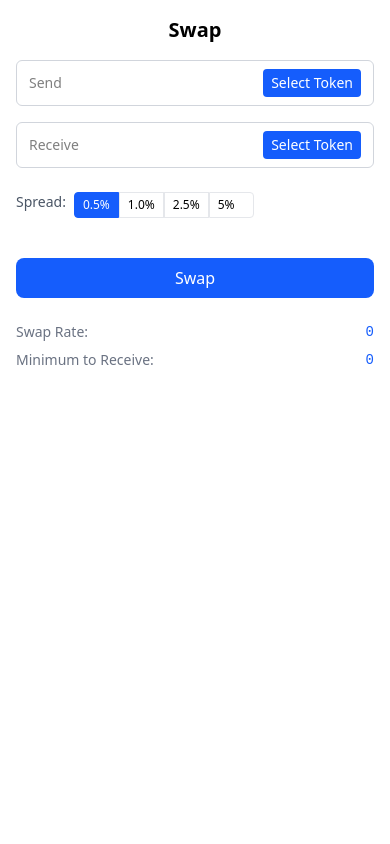
Scenario: Swap Page › 3. selecting the 'Receive' token input updates receiveToken
// Open its modal
Step 1. Click the 2nd button "Select Token" → (312, 145), box top-left (263, 131), bottom-right (361, 159)
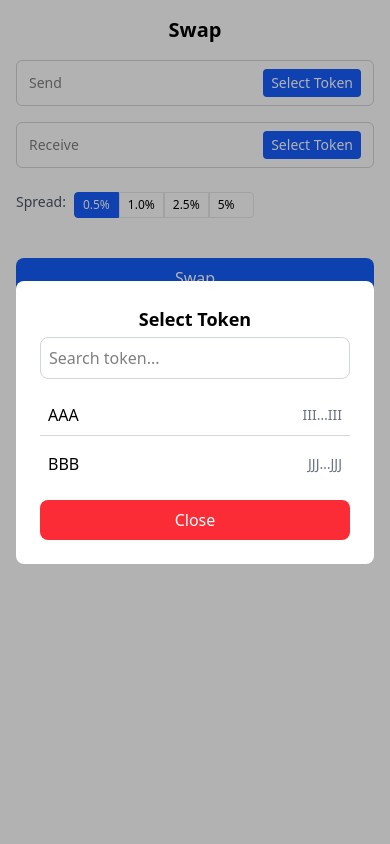
Check: the heading "Select Token" is shown, box top-left (139, 306), bottom-right (251, 330)
Step 2. Click the text "BBB" → (64, 464), box top-left (48, 452), bottom-right (79, 476)
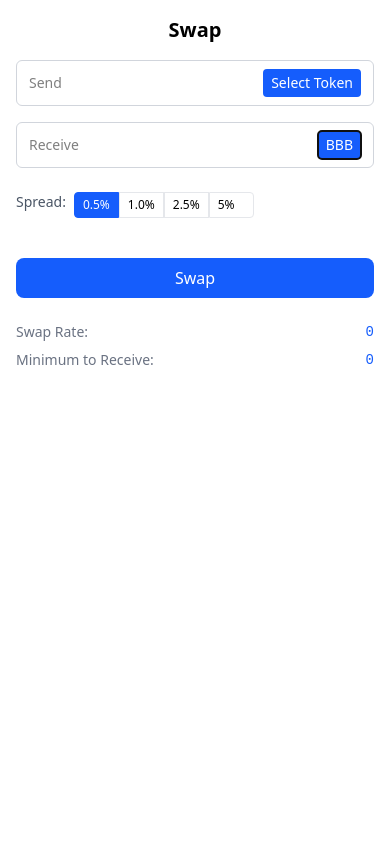
Check: the button named "Select Token" reads "BBB", box top-left (318, 131), bottom-right (361, 159)
